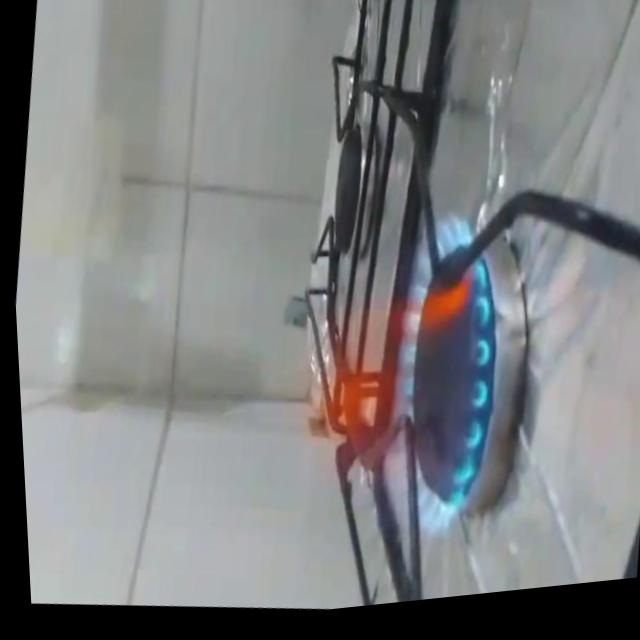Fire: (261, 199, 514, 570)
